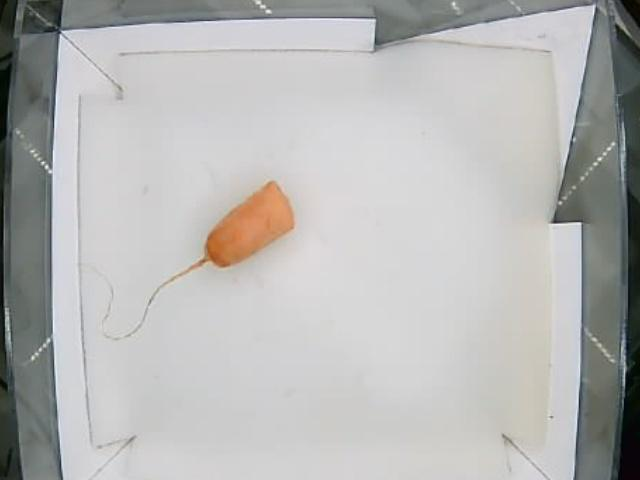Carrot: (201, 180, 298, 273)
